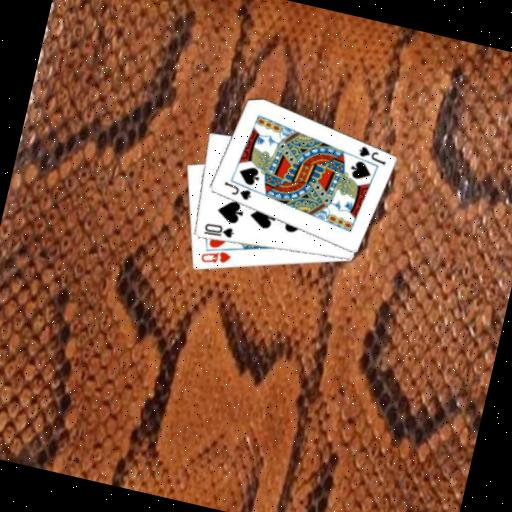10S: (200, 219, 237, 242)
JS: (218, 178, 255, 203), (354, 142, 390, 167)
QH: (197, 244, 234, 270)
